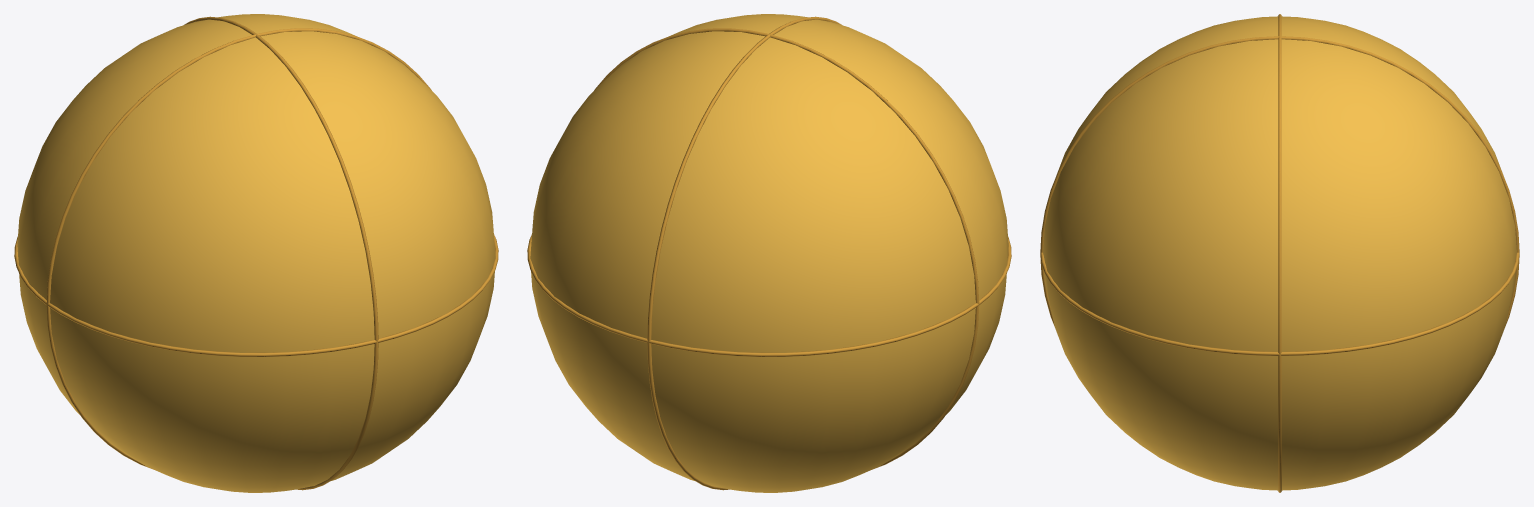
File: play-ball.glb
3 views of the same model, side by side, from view 1: azimuth 30°, elevation 25°; view 2: azimuth 150°, elevation 25°; view 3: azimuth 270°, elevation 25° (orthographic).
Visible parts, largest first — view 1: Ball_Yellow_Surface, Ball_Subtle_Seam_1, Ball_Subtle_Seam_0, Ball_Subtle_Seam_2; view 2: Ball_Yellow_Surface, Ball_Subtle_Seam_1, Ball_Subtle_Seam_0, Ball_Subtle_Seam_2; view 3: Ball_Yellow_Surface, Ball_Subtle_Seam_2, Ball_Subtle_Seam_0, Ball_Subtle_Seam_1.
Boxes of the visible parts, x1,y1,x2,y2 form: Ball_Yellow_Surface: (17,14,495,492); Ball_Subtle_Seam_1: (46,28,431,468); Ball_Subtle_Seam_0: (14,234,498,356); Ball_Subtle_Seam_2: (184,16,378,490); Ball_Yellow_Surface: (530,14,1008,492); Ball_Subtle_Seam_1: (594,28,979,468); Ball_Subtle_Seam_0: (527,234,1011,356); Ball_Subtle_Seam_2: (647,16,841,490); Ball_Yellow_Surface: (1043,16,1516,490); Ball_Subtle_Seam_2: (1040,36,1519,326); Ball_Subtle_Seam_0: (1040,252,1519,355); Ball_Subtle_Seam_1: (1278,14,1281,492).
Size of the model in its own units: 0.1818 by 0.1818 by 0.1818.
